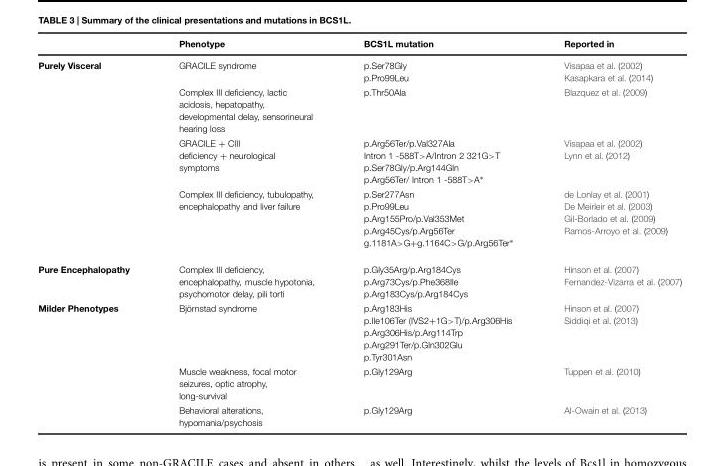table: (37, 37, 681, 426)
table column: (338, 37, 537, 426), (153, 37, 338, 426), (537, 37, 681, 426), (37, 37, 153, 426)
table column header: (37, 37, 681, 53)
table row: (37, 186, 681, 258), (37, 300, 681, 363), (37, 84, 681, 135), (37, 135, 681, 186), (37, 258, 681, 300), (37, 363, 681, 402), (37, 53, 681, 84), (37, 402, 681, 426), (37, 37, 681, 53)
table spanning cell: (37, 53, 153, 258), (37, 300, 153, 426)
